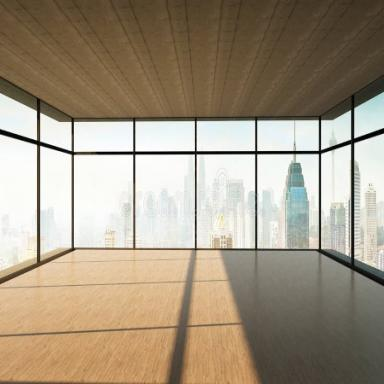glass_panel: (75, 154, 132, 248), (136, 156, 194, 248), (199, 155, 254, 249), (0, 134, 36, 274), (356, 135, 384, 273), (40, 146, 71, 259), (324, 144, 352, 259), (259, 154, 292, 248), (286, 154, 317, 248), (0, 92, 36, 138), (199, 120, 254, 150), (136, 121, 194, 149), (75, 122, 132, 150), (40, 104, 71, 150), (322, 107, 352, 148), (258, 120, 294, 150), (296, 120, 318, 151)
